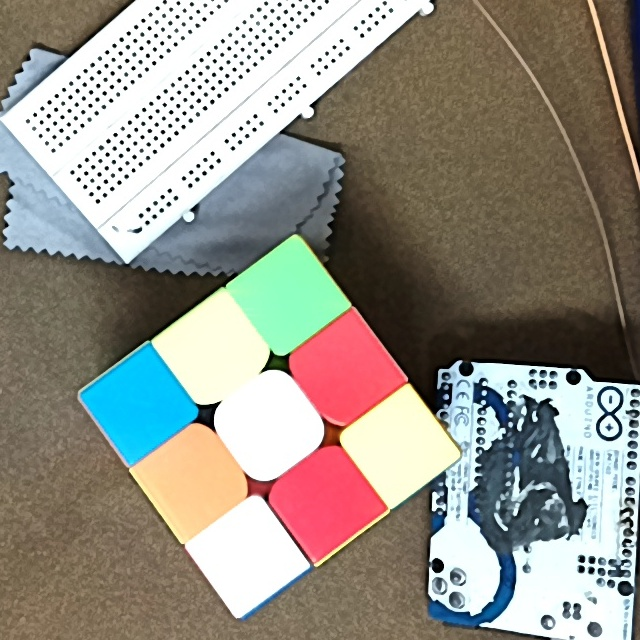tile: (258, 265, 322, 330), (312, 340, 377, 404), (370, 414, 433, 478), (237, 395, 302, 457), (184, 315, 242, 383), (218, 525, 282, 585), (164, 448, 225, 510), (110, 375, 170, 438), (296, 467, 355, 531)
